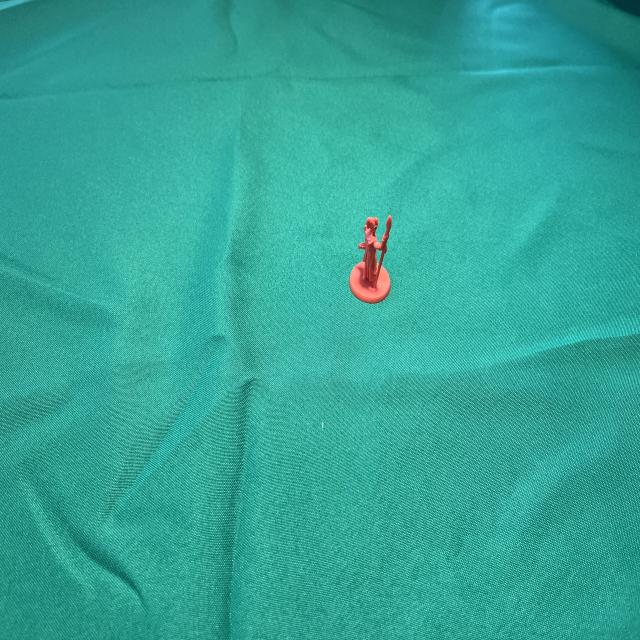amon_follower: (350, 217, 391, 303)
